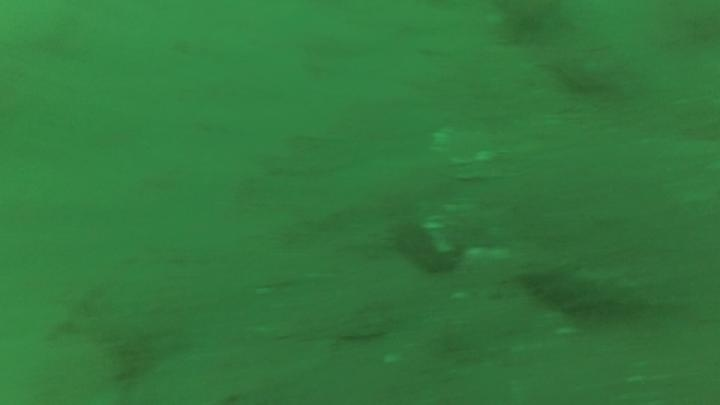holothurian: (515, 255, 660, 318)
